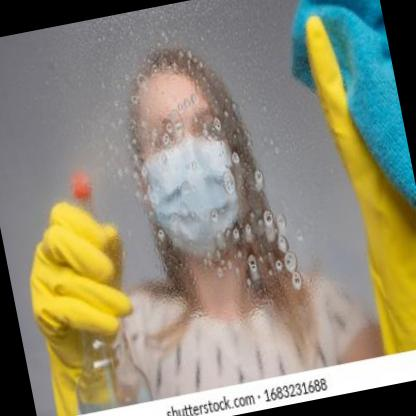Gloves: (298, 0, 416, 360), (12, 189, 152, 416)
